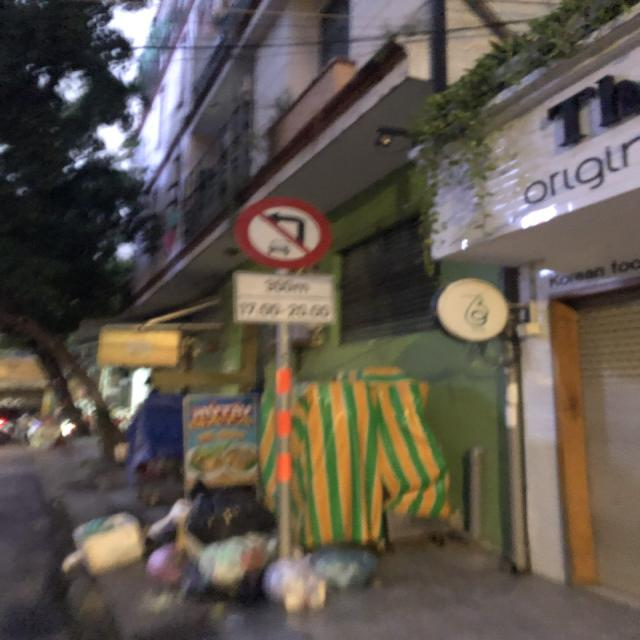Bien bao cam xe o to re trai: (226, 191, 342, 273)
